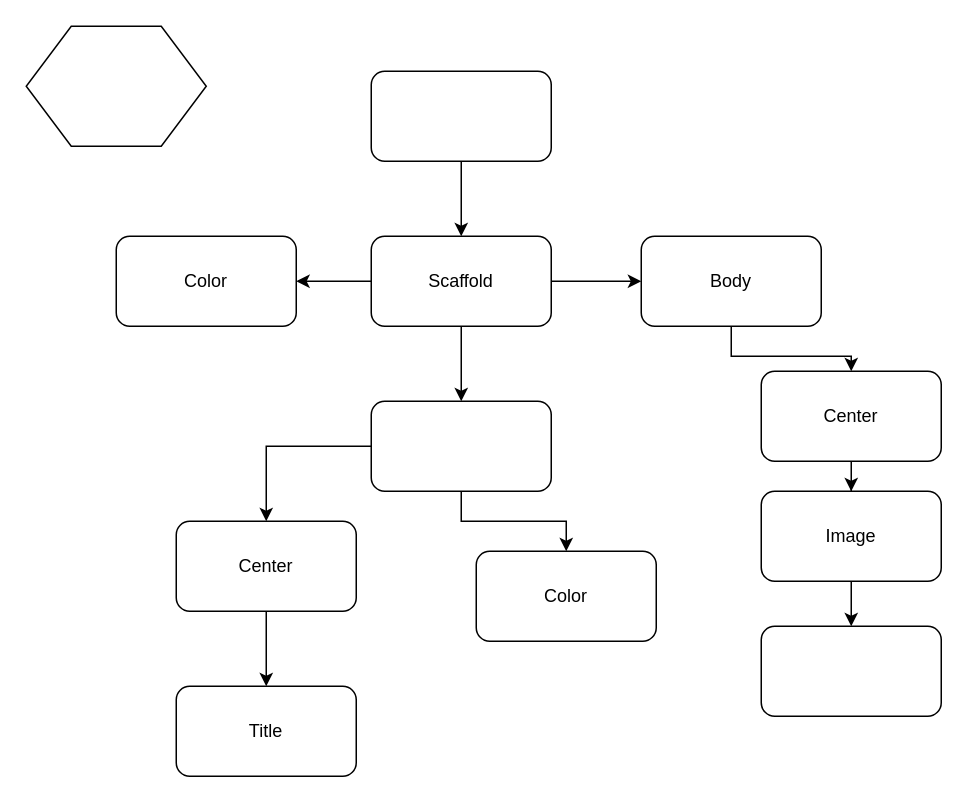
Some shapes in this 968 by 803 pixel diagram are drawn without their labels. The centre of each missing label's shape, as x and y in pixels:
"ANDROID" belongs at (x=115, y=85).
"AppBar" belongs at (x=460, y=445).
"MaterialApp" belongs at (x=460, y=115).
"URL" belongs at (x=850, y=670).
